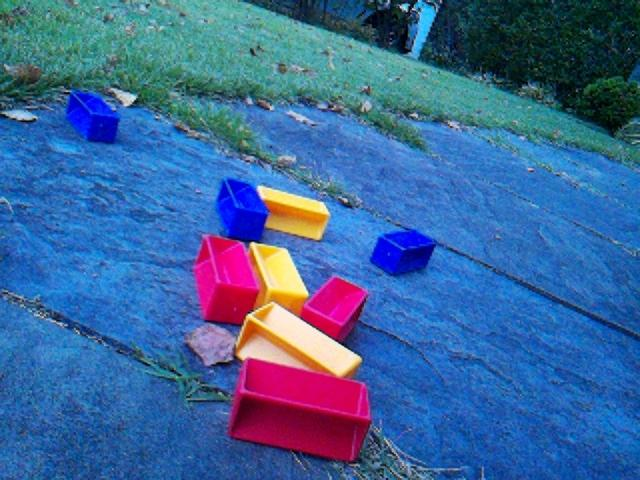blue: (215, 177, 271, 244), (370, 229, 438, 277), (65, 90, 123, 146)
red: (230, 357, 373, 464), (193, 234, 262, 326), (301, 275, 368, 344)
yellow: (235, 302, 364, 381), (247, 243, 312, 318), (256, 185, 333, 244)
